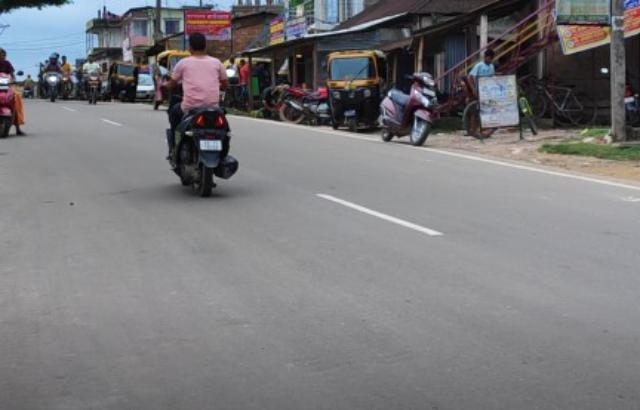licensePlate: (201, 140, 224, 151)
motorcycle: (159, 28, 239, 197)
withoutHelmet: (186, 32, 210, 54)
